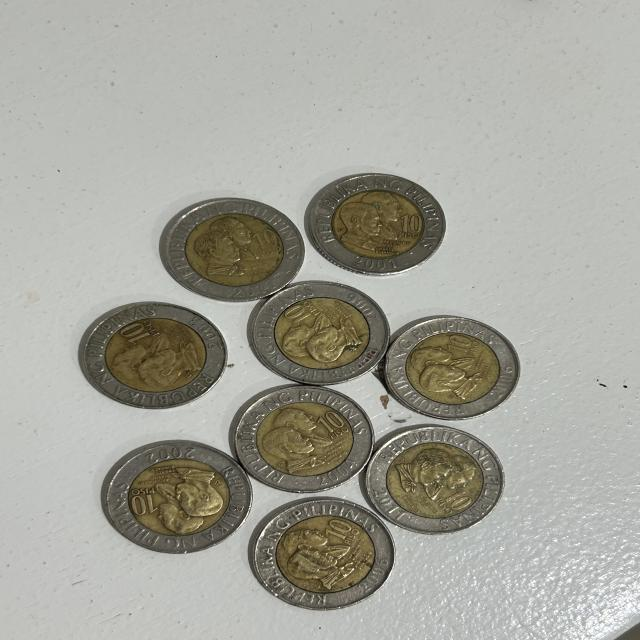10_Old_Front: (321, 512, 361, 550), (432, 484, 484, 512), (120, 488, 164, 519), (438, 330, 478, 362), (393, 207, 426, 245), (117, 318, 163, 344), (318, 408, 350, 443), (248, 226, 280, 256), (283, 301, 320, 326)
